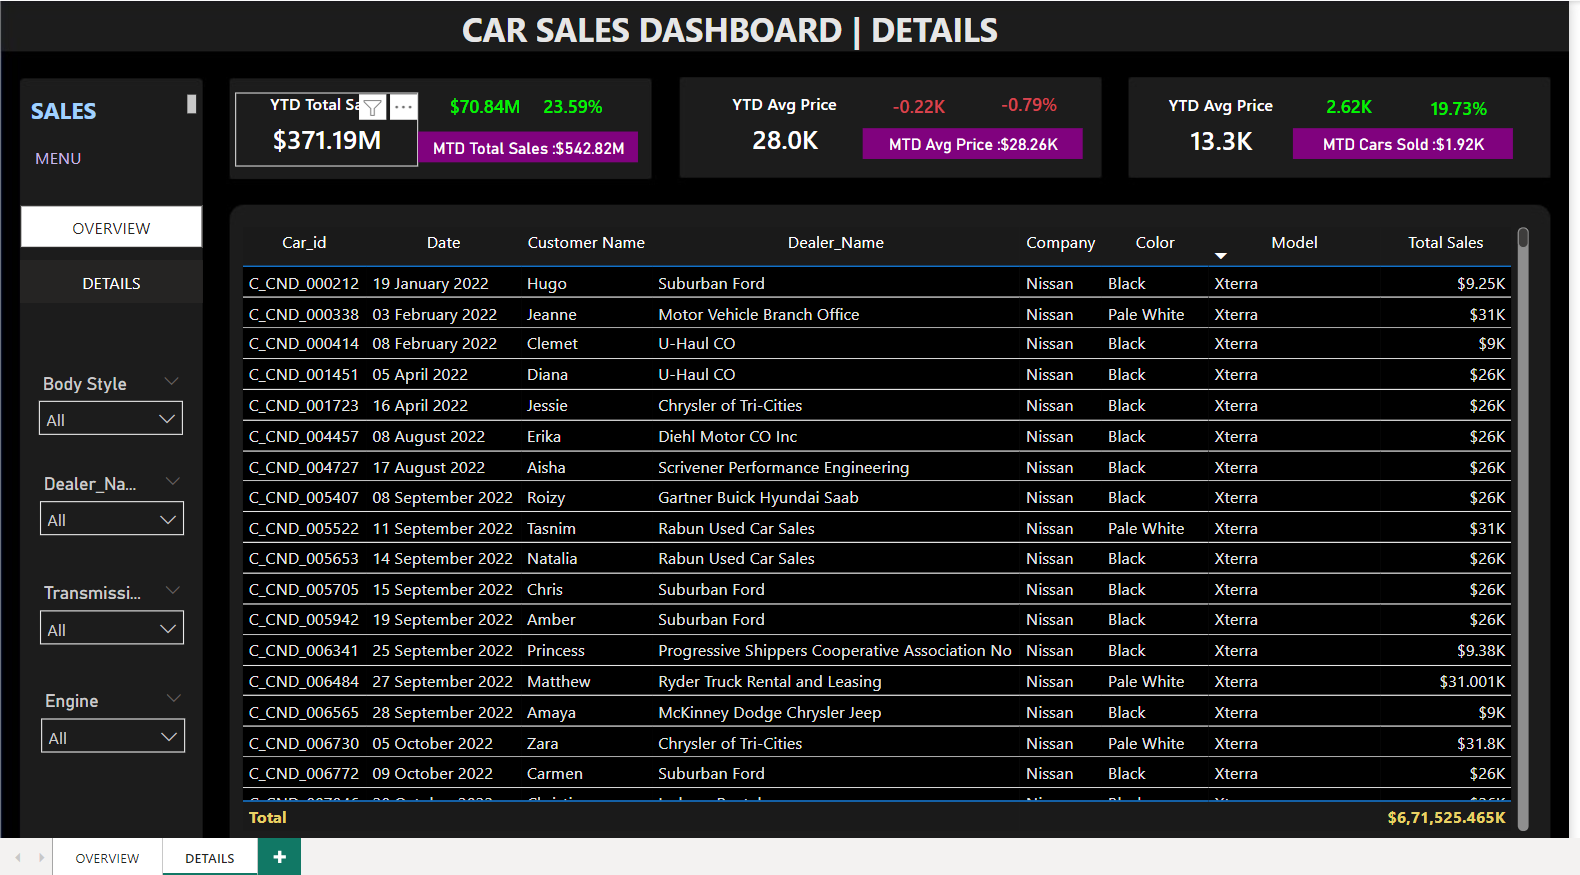

The dashboard page shown, as its layout file describes it:
{"tool":"powerbi","page":{"name":"DETAILS","canvas":[1280,720],"ordinal":1},"visuals":[{"type":"card","title":"YTD Total Sales","fields":{"Values":["car_data.YTD Total Sales"]},"box":[191.8,75.5,149.1,59.6],"z":0},{"type":"card","fields":{"Values":["car_data.Sales Difference"]},"box":[358.8,70.6,72.6,34.8],"z":1000},{"type":"card","fields":{"Values":["car_data.YoY Sales Growth"]},"box":[431.3,70.6,72.6,34.8],"z":2000},{"type":"card","fields":{"Values":["car_data.MTD KPI"]},"box":[340.9,107.3,179.9,24.8],"z":3000},{"type":"card","title":"YTD Avg Price","fields":{"Values":["car_data.YTD Avg Price"]},"box":[565.5,75.5,149.1,59.6],"z":4000},{"type":"card","fields":{"Values":["car_data.Avg Price Diff"]},"box":[703.6,70.6,90.4,34.8],"z":5000},{"type":"card","fields":{"Values":["car_data.MTD avg price KPI"]},"box":[703.6,104.4,179.9,24.8],"z":6000},{"type":"card","fields":{"Values":["car_data.YOY avg price growth"]},"box":[793.8,69.6,90.4,34.3],"z":7000},{"type":"card","title":"YTD Avg Price","fields":{"Values":["car_data.YTD Cars Sold"]},"box":[920.7,75.9,149.7,59.9],"z":8000},{"type":"card","fields":{"Values":["car_data.Cars Sold diff"]},"box":[1054.3,70.6,90.9,35.3],"z":9000},{"type":"card","fields":{"Values":["car_data.YOY cars sold growth"]},"box":[1144.9,71.6,90.4,35.8],"z":10000},{"type":"card","fields":{"Values":["car_data.mtd car sold KPI"]},"box":[1054.5,104.4,179.9,24.8],"z":11000},{"type":"slicer","fields":{"Values":["car_data.Body Style"]},"box":[22,299,137,61],"z":12000},{"type":"slicer","fields":{"Values":["car_data.Dealer_Name"]},"box":[23,381,137,61],"z":13000},{"type":"slicer","fields":{"Values":["car_data.Transmission"]},"box":[23,470,137,61],"z":14000},{"type":"slicer","fields":{"Values":["car_data.Engine"]},"box":[24,558,137,61],"z":15000},{"type":"textbox","box":[520,0,534,50],"z":16000},{"type":"tableEx","fields":{"Values":["car_data.Car_id","car_data.Date","car_data.Customer Name","car_data.Dealer_Name","car_data.Company","car_data.Color","car_data.Model","car_data.Price ($)"]},"box":[192,180,1060,503],"z":17000},{"type":"textbox","box":[20,72,145,37],"z":18000},{"type":"textbox","box":[24,114,60,29],"z":19000},{"type":"pageNavigator","box":[16,167,149,80],"z":20000}]}

Visuals, with their boxes on the page's 1280x720 design canvas (x1, y1, x2, y2). These are canvas units, not pixel positions in the 1580x875 screenshot, which may show the page scaled, cropped or inside an application window:
"YTD Total Sales" card: Rect(192, 76, 341, 135)
card - car_data.Sales Difference: Rect(359, 71, 431, 105)
card - car_data.YoY Sales Growth: Rect(431, 71, 504, 105)
card - car_data.MTD KPI: Rect(341, 107, 521, 132)
"YTD Avg Price" card: Rect(566, 76, 715, 135)
card - car_data.Avg Price Diff: Rect(704, 71, 794, 105)
card - car_data.MTD avg price KPI: Rect(704, 104, 884, 129)
card - car_data.YOY avg price growth: Rect(794, 70, 884, 104)
"YTD Avg Price" card: Rect(921, 76, 1070, 136)
card - car_data.Cars Sold diff: Rect(1054, 71, 1145, 106)
card - car_data.YOY cars sold growth: Rect(1145, 72, 1235, 107)
card - car_data.mtd car sold KPI: Rect(1054, 104, 1234, 129)
slicer - car_data.Body Style: Rect(22, 299, 159, 360)
slicer - car_data.Dealer_Name: Rect(23, 381, 160, 442)
slicer - car_data.Transmission: Rect(23, 470, 160, 531)
slicer - car_data.Engine: Rect(24, 558, 161, 619)
textbox: Rect(520, 0, 1054, 50)
tableEx - car_data.Car_id x car_data.Date: Rect(192, 180, 1252, 683)
textbox: Rect(20, 72, 165, 109)
textbox: Rect(24, 114, 84, 143)
pageNavigator: Rect(16, 167, 165, 247)
